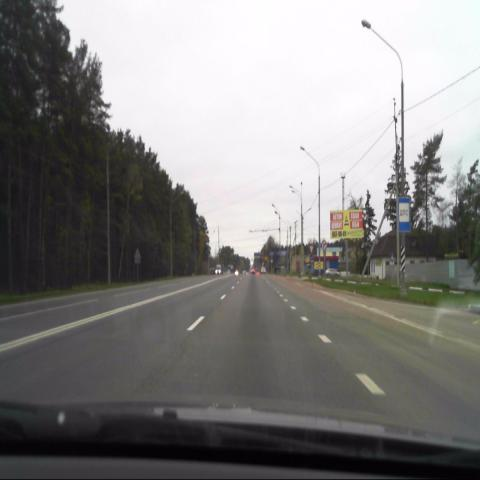7_12: (398, 197, 410, 232)
